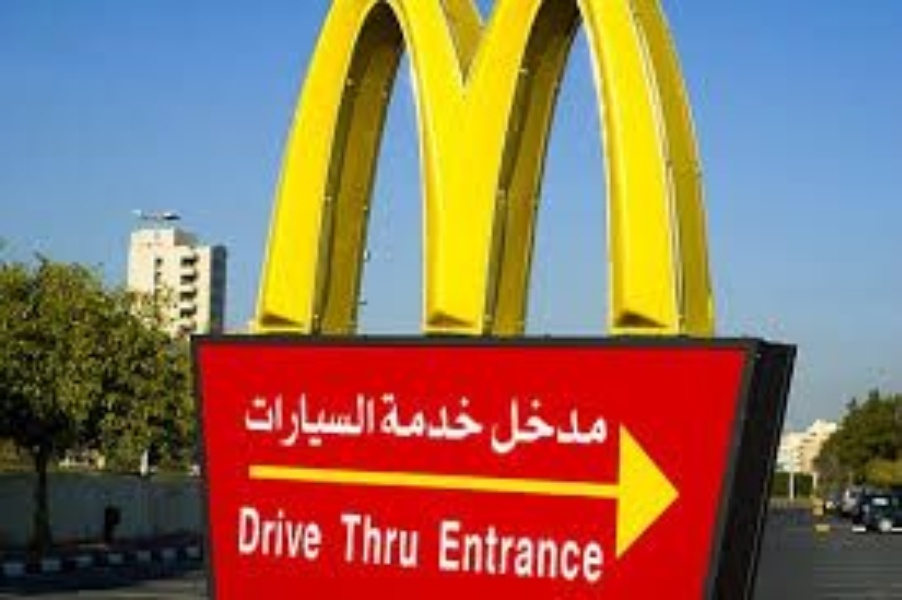text: (257, 384, 272, 450), (273, 384, 288, 450), (289, 384, 304, 450), (305, 384, 320, 450), (321, 384, 336, 450), (337, 384, 352, 450), (353, 384, 368, 450), (497, 391, 512, 456), (513, 391, 528, 456), (529, 391, 544, 456), (545, 391, 560, 456), (561, 391, 576, 456), (577, 391, 592, 456), (593, 391, 608, 456), (449, 519, 464, 584), (465, 519, 480, 584), (481, 519, 496, 584), (497, 519, 512, 584), (513, 519, 528, 584), (529, 519, 544, 584), (545, 519, 560, 584), (561, 519, 576, 584), (577, 519, 592, 584), (241, 502, 256, 564), (257, 502, 272, 564), (273, 502, 288, 564), (289, 502, 304, 564), (305, 502, 320, 564), (353, 509, 368, 571), (369, 509, 384, 571), (385, 509, 400, 571), (401, 509, 416, 571), (338, 509, 352, 571), (243, 384, 256, 450), (385, 391, 400, 443), (401, 391, 416, 443), (417, 391, 432, 443), (433, 391, 448, 443), (449, 391, 464, 443), (465, 391, 480, 443), (593, 519, 604, 584), (369, 384, 378, 450), (374, 391, 384, 443), (440, 519, 448, 584), (489, 391, 496, 456), (417, 509, 424, 571), (481, 391, 486, 443), (321, 502, 325, 564), (237, 502, 240, 564), (609, 391, 611, 456)
